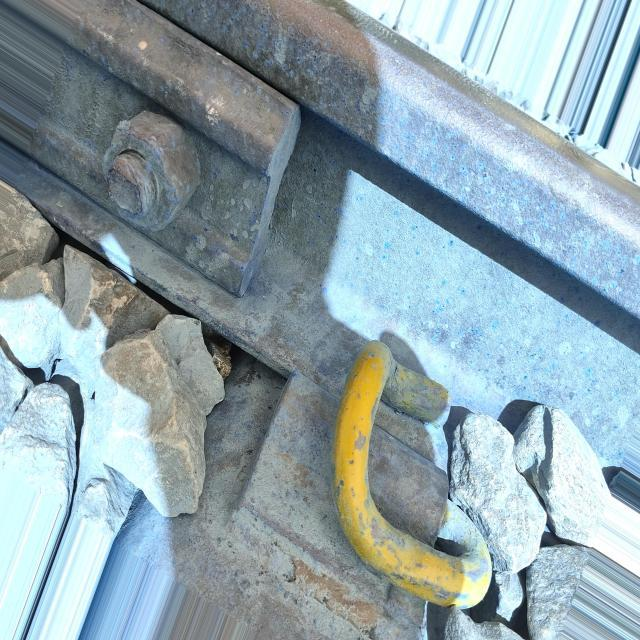Good Fasteners: (231, 341, 491, 640)
